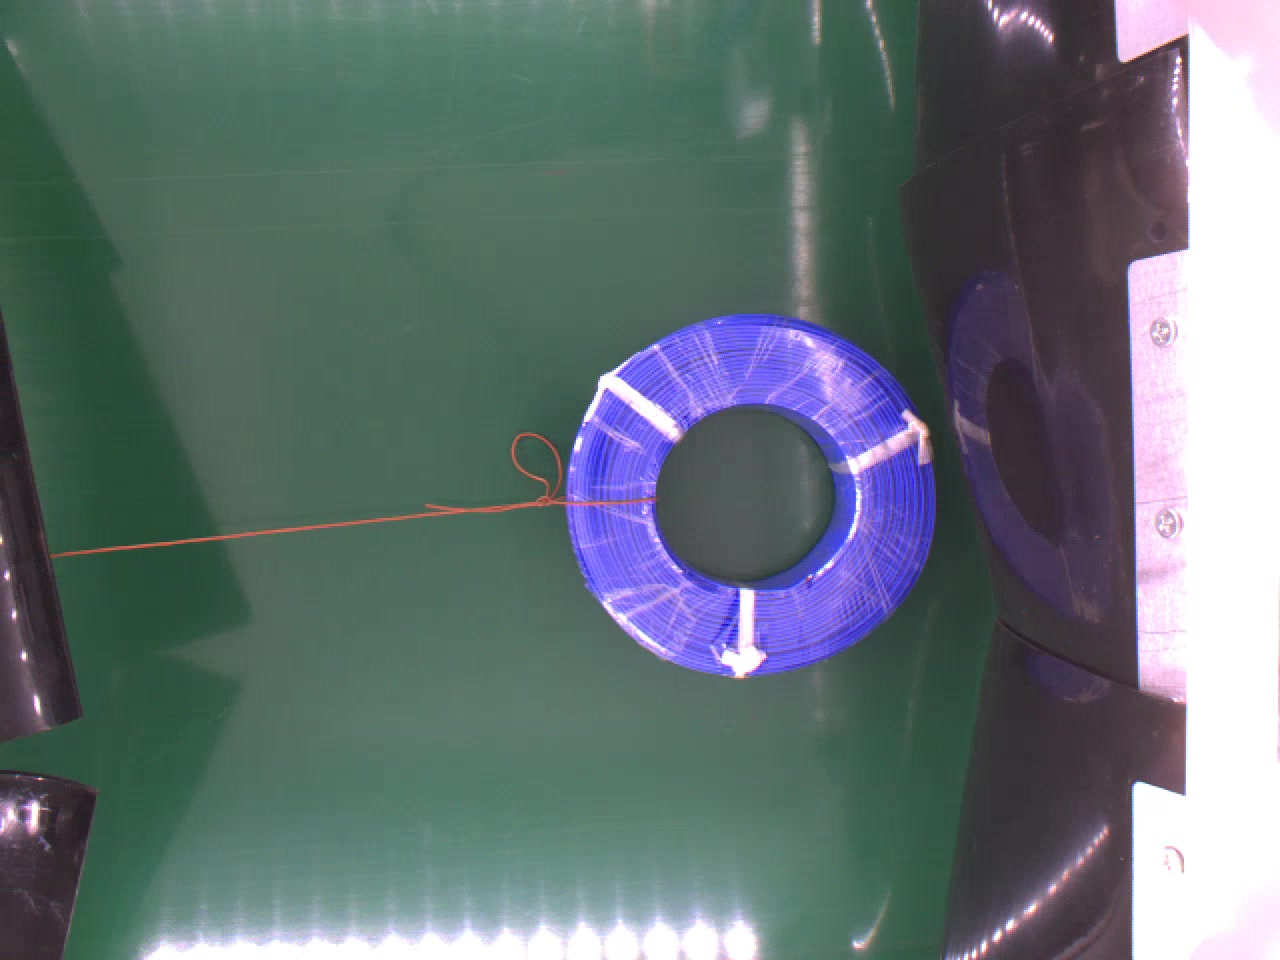blue: (544, 307, 939, 690)
